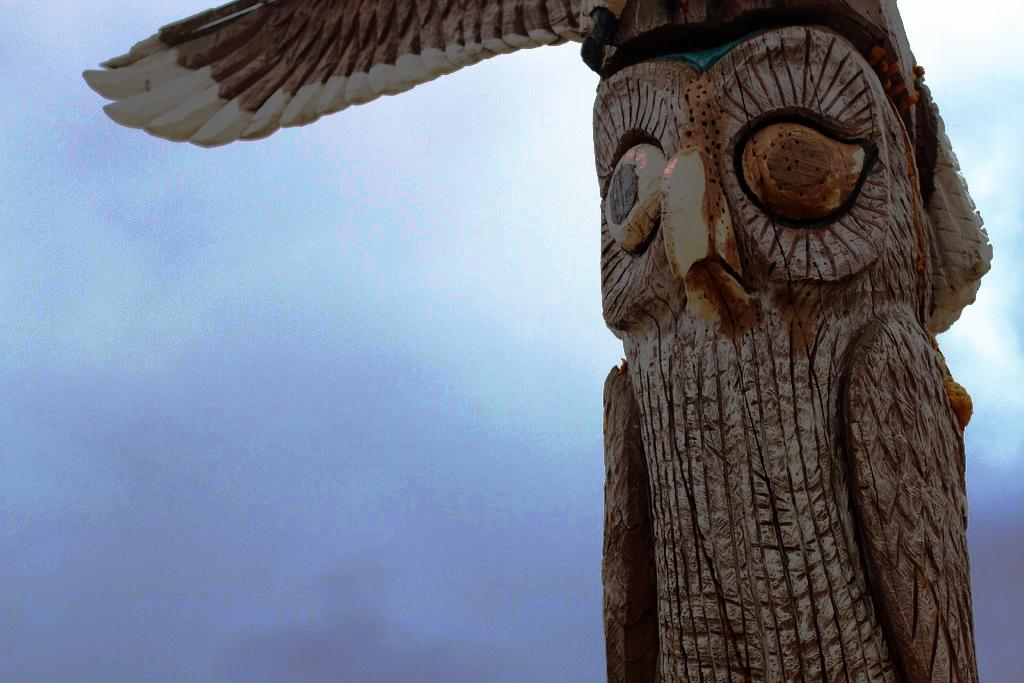Owl: (73, 0, 996, 682)
